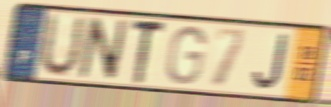7: (210, 26, 247, 90)
G: (164, 24, 208, 88)
J: (250, 32, 291, 93)
N: (75, 15, 130, 83)
T: (130, 19, 169, 86)
U: (36, 11, 88, 79)
